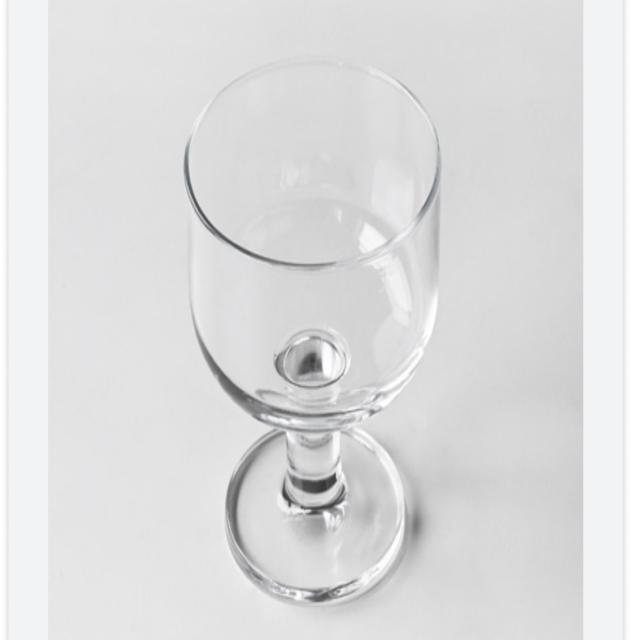recyclable: (166, 38, 462, 623)
